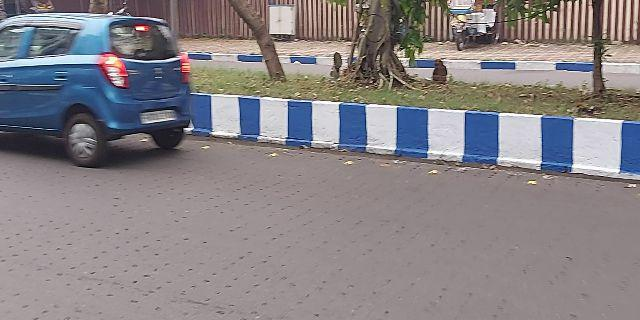Car: (6, 10, 202, 165)
